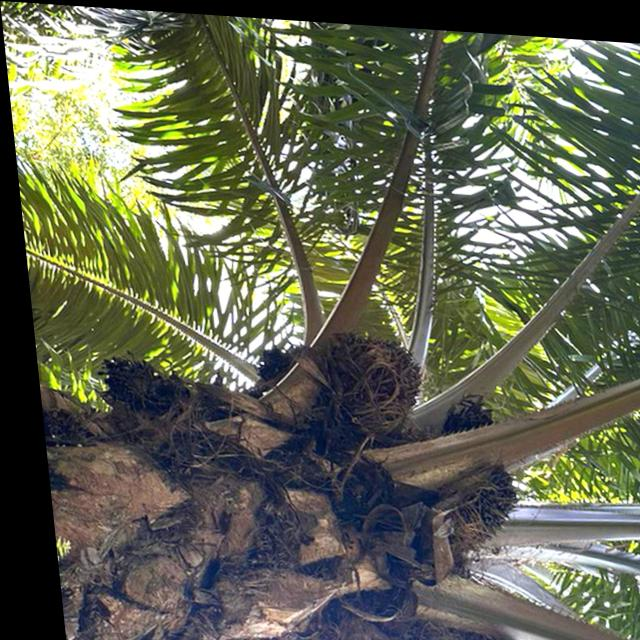ripe: (309, 318, 428, 440)
